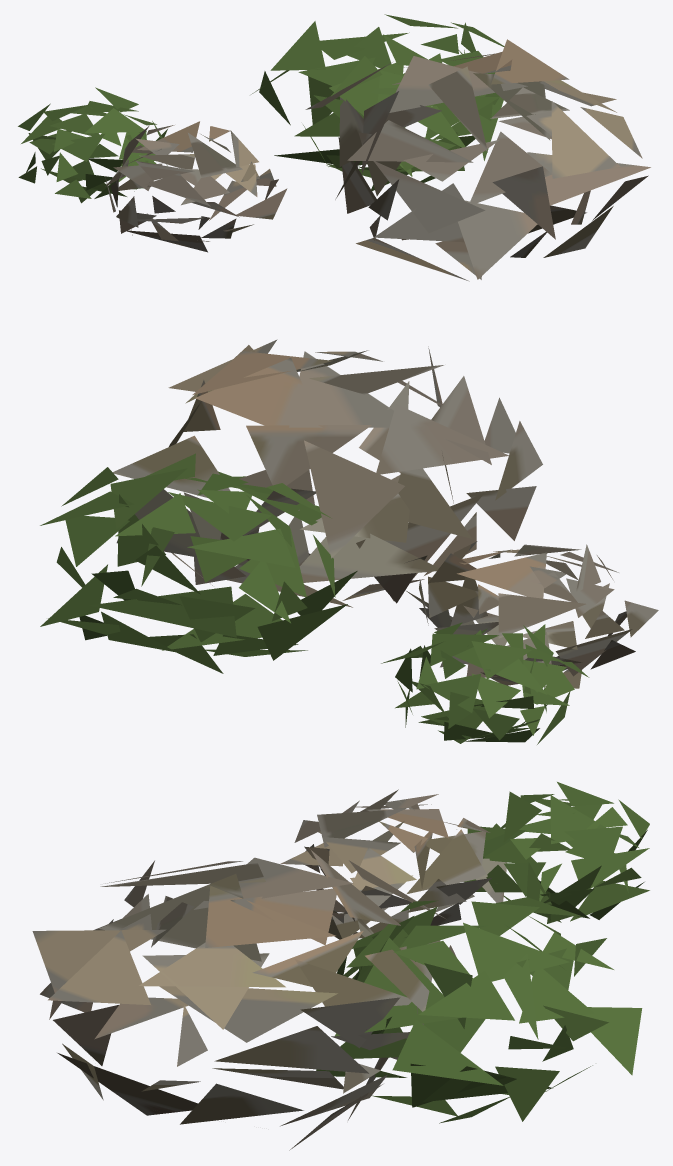
File: rock_cluster.glb
3 views of the same model, one above another, from view 1: azimuth 30°, elevation 25°; view 2: azimuth 150°, elevation 25°; view 3: azimuth 270°, elevation 25° (orthographic). The views are drawn at different scales.
Visible parts, largest first — view 1: rocks; view 2: rocks; view 3: rocks.
Part boxes in pixels (x1,y1,x2,y2): rocks: (18,14,650,281); rocks: (40,339,658,744); rocks: (32,782,649,1150).
Bounding box in the file's own units: 2.8 × 1.05 × 2.59.
2 materials, 1 textured.
